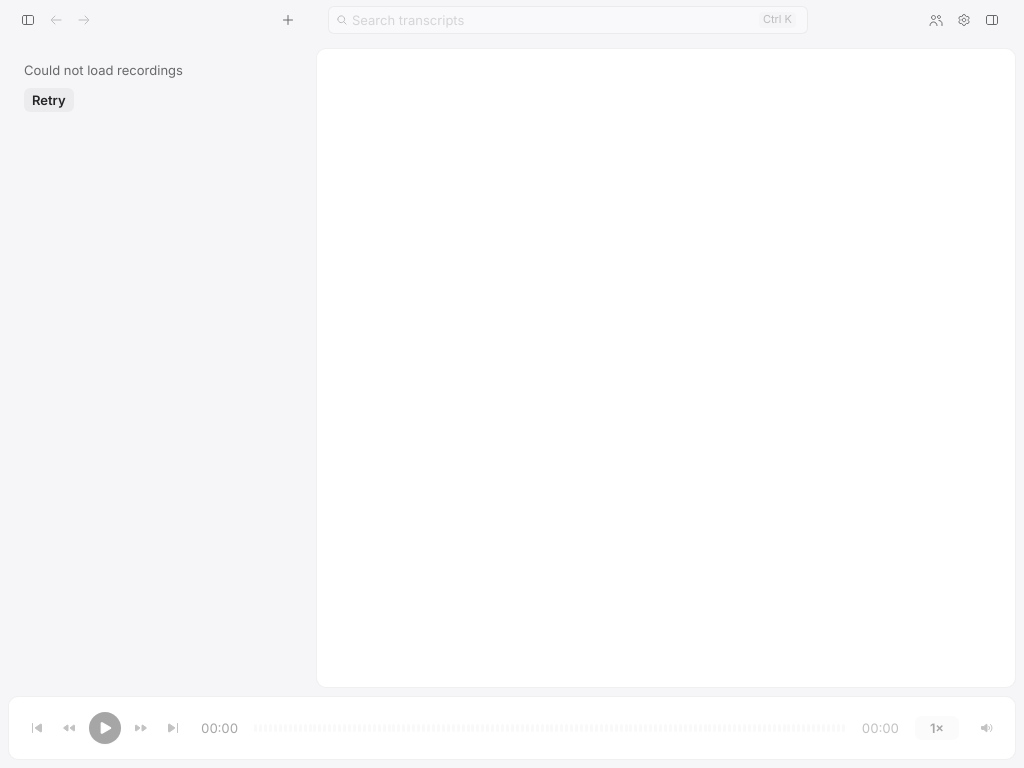
Test: Retry asks again after an error
Click the button "Retry" at (49, 100), box [24,88,74,112]
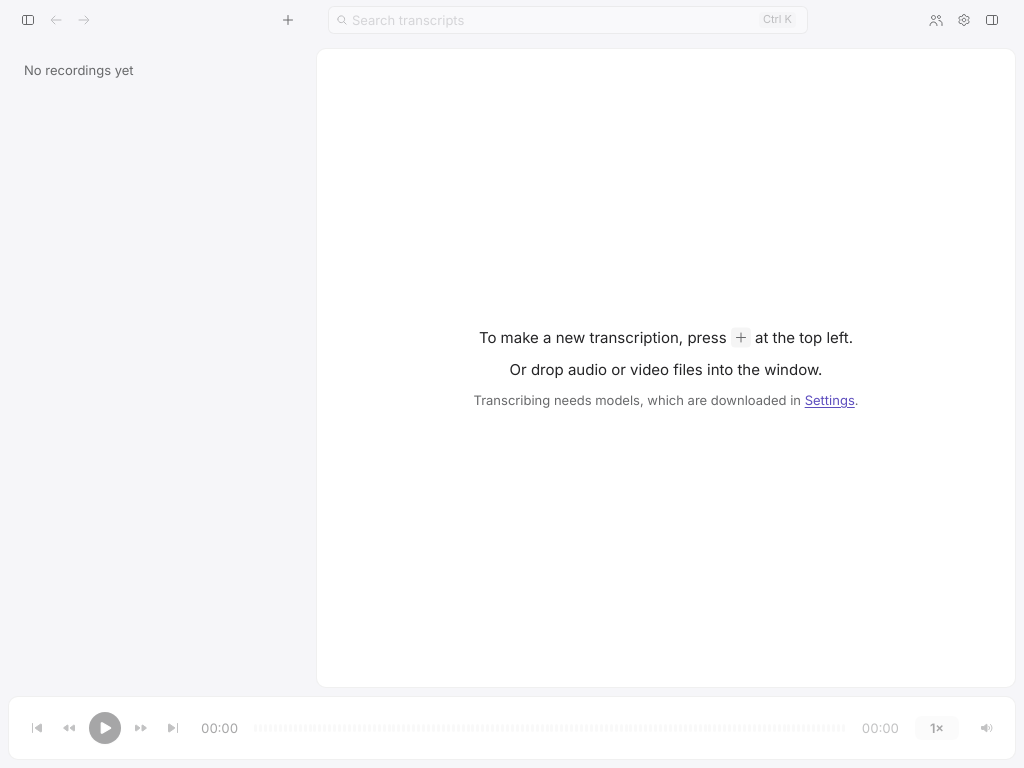
Now the text "No recordings yet" is shown, box [24,62,134,78]
